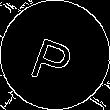P_N: (29, 25, 81, 85)
